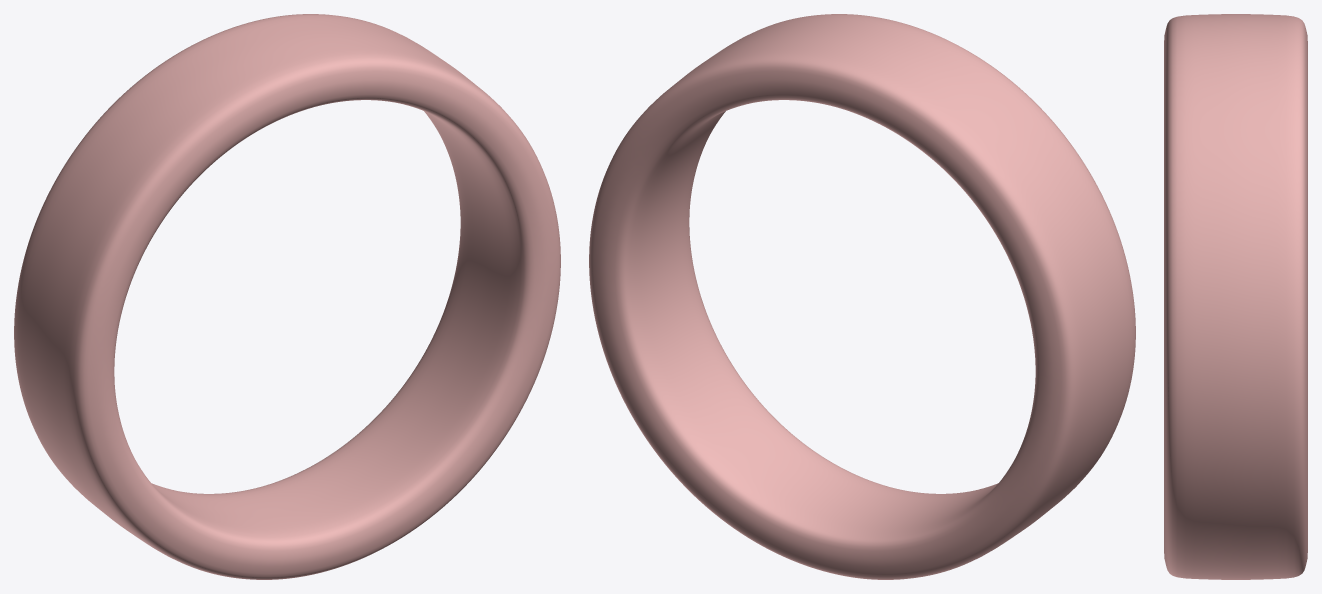
File: WIDE-PLAIN.glb
3 renders of one model, left to right at view 1: azimuth 30°, elevation 25°; view 2: azimuth 150°, elevation 25°; view 3: azimuth 270°, elevation 25°, orthographic.
Visible parts, largest first — view 1: wide plain; view 2: wide plain; view 3: wide plain.
Boxes of the visible parts, <box> form: wide plain: <box>14,14,560,579</box>; wide plain: <box>589,14,1135,579</box>; wide plain: <box>1164,14,1307,579</box>.
Bounding box in the file's own units: 15.7 × 15.7 × 3.99.
